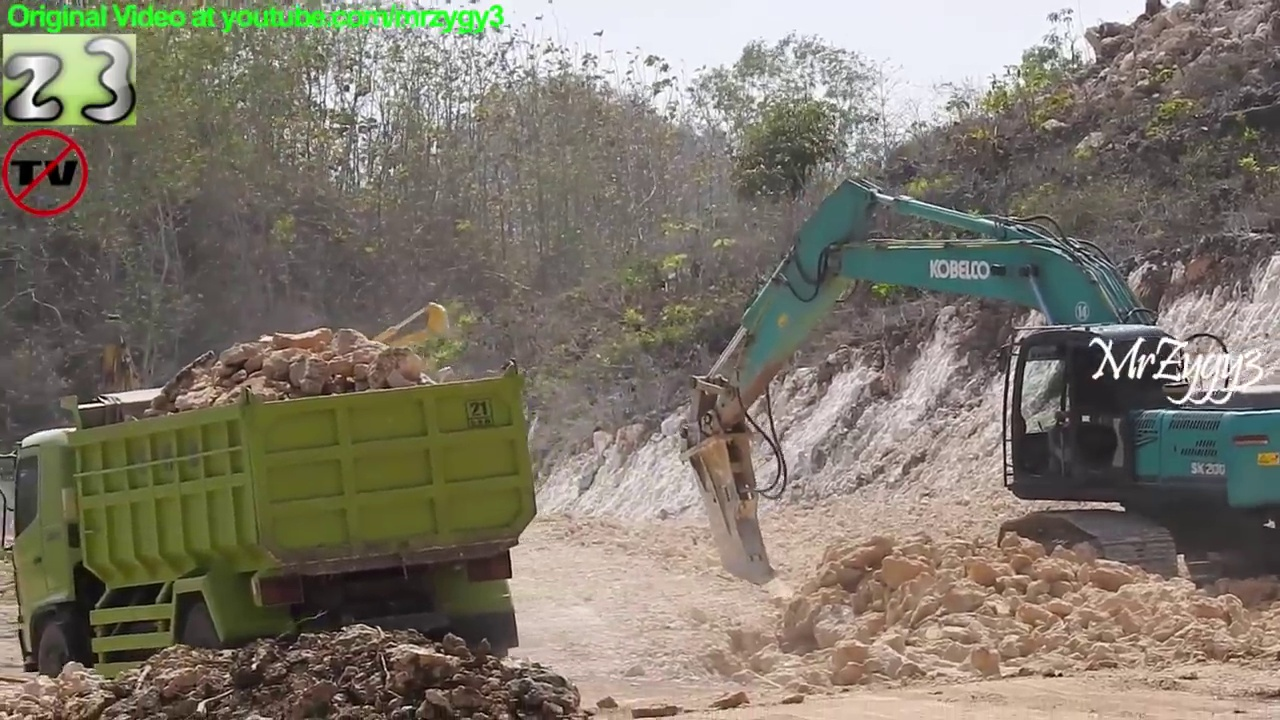excavator: (675, 172, 1280, 613), (292, 298, 488, 552), (27, 317, 193, 572)
truck: (1, 355, 543, 707)
